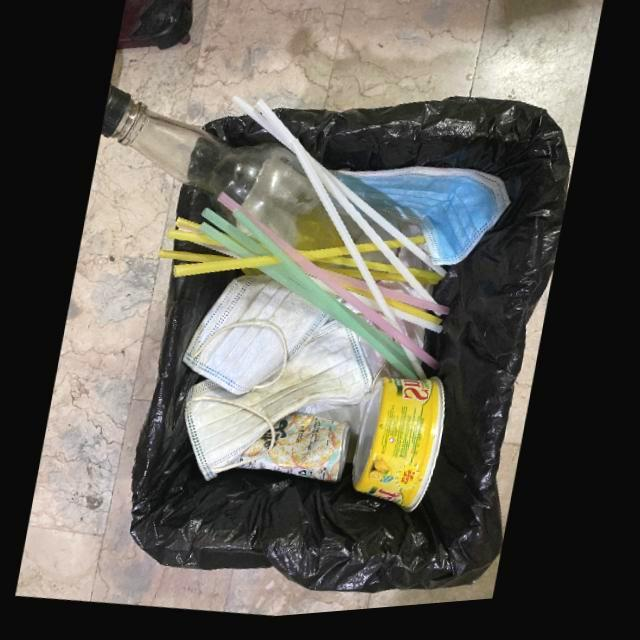aluminum: (241, 417, 353, 490)
glass_bottle: (102, 89, 348, 257)
plastic_container: (356, 384, 448, 520)
